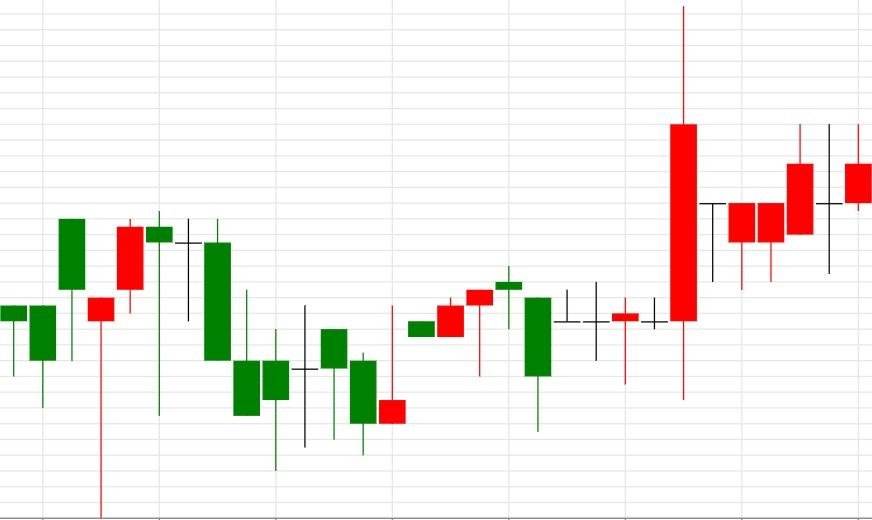inverse_hammer_rise: (321, 305, 407, 456)
